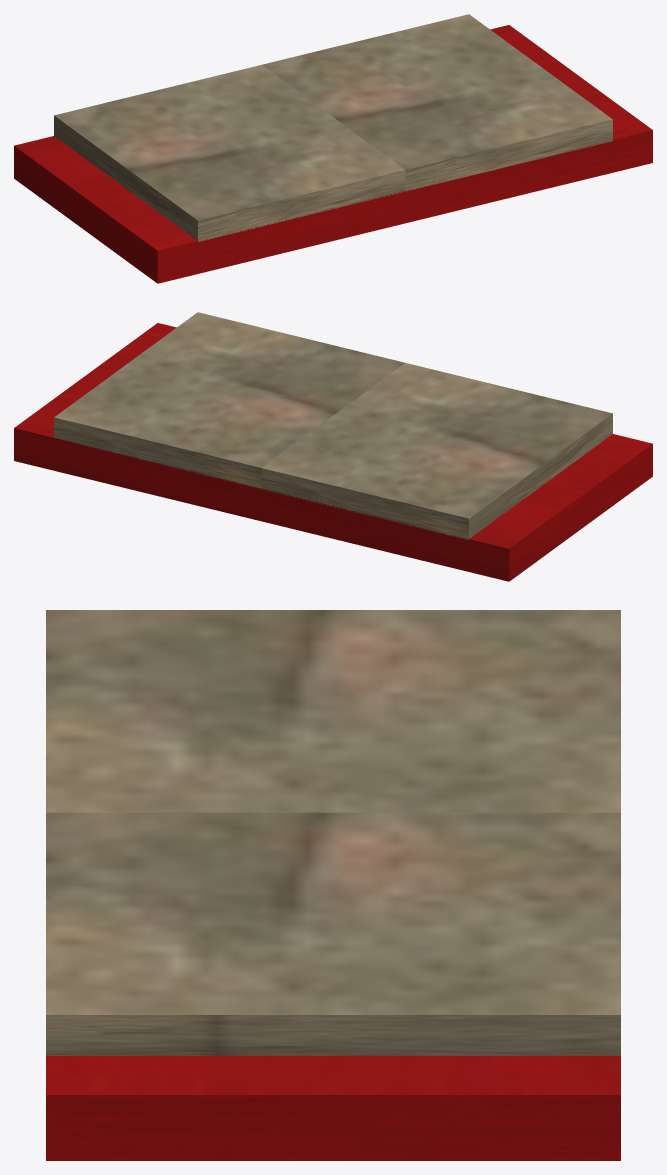
The model's file is BookOpened.fbx.
3 renders of one model, top to bottom at view 1: azimuth 30°, elevation 25°; view 2: azimuth 150°, elevation 25°; view 3: azimuth 270°, elevation 25°, orthographic. The views are drawn at different scales.
Visible parts, largest first — view 1: Left_Page, Left_Page1, pCube1; view 2: Left_Page, Left_Page1, pCube1; view 3: Left_Page1, Left_Page, pCube1.
Boxes of the visible parts, x1,y1,x2,y2 form: Left_Page: [54, 65, 405, 242]; Left_Page1: [262, 14, 612, 191]; pCube1: [14, 25, 652, 283]; Left_Page: [261, 363, 612, 539]; Left_Page1: [54, 312, 404, 489]; pCube1: [14, 323, 652, 581]; Left_Page1: [46, 812, 620, 1055]; Left_Page: [46, 610, 620, 812]; pCube1: [46, 1056, 620, 1160].
Size of the model in its own units: 1.19 by 0.1229 by 0.6.
2 materials, 2 textured.
